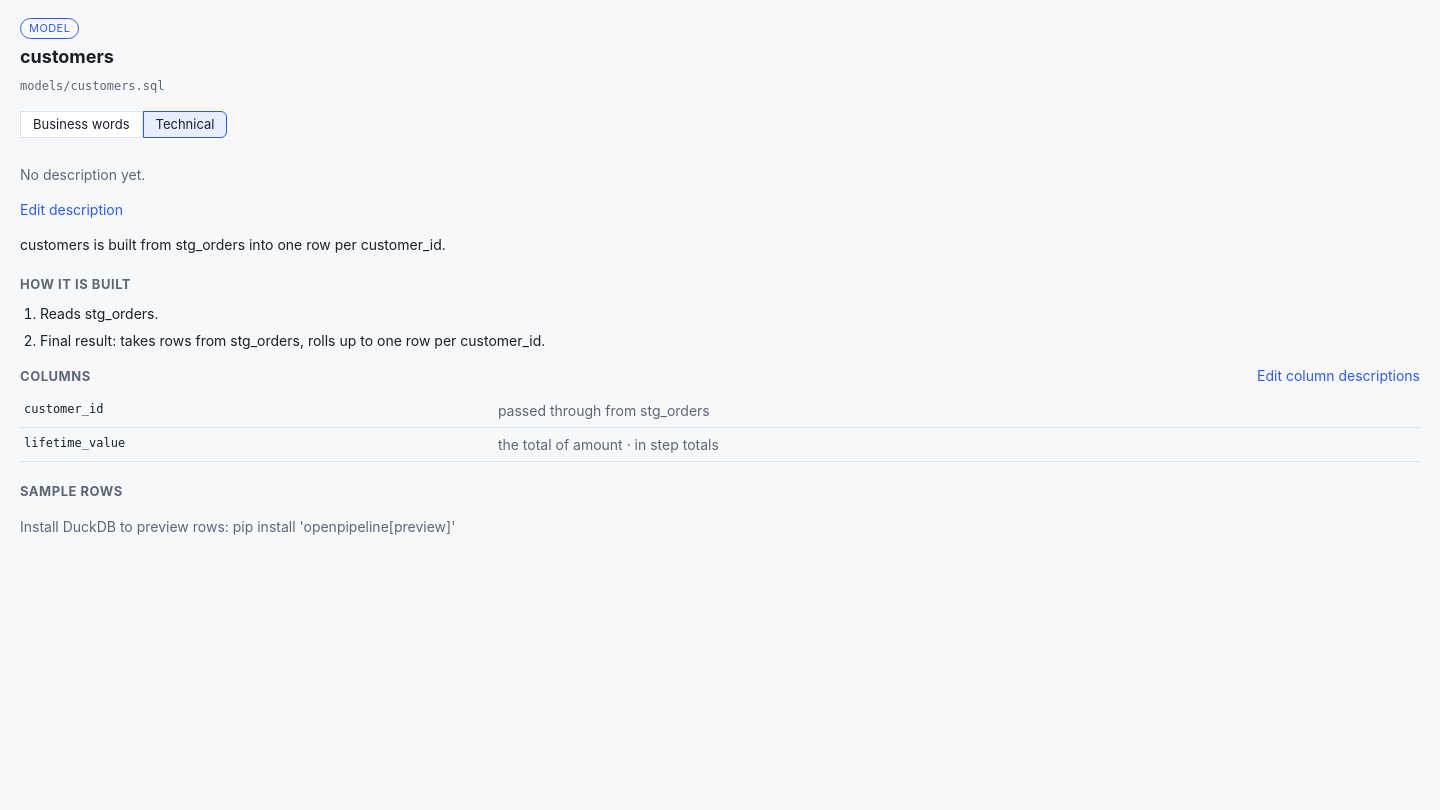
Test: words toggle › still works when storage is blocked
What coordinates should you click on to do the following:
click the button "Business words"
I would click on:
 (81, 124)
Its box is [20,110,142,138].
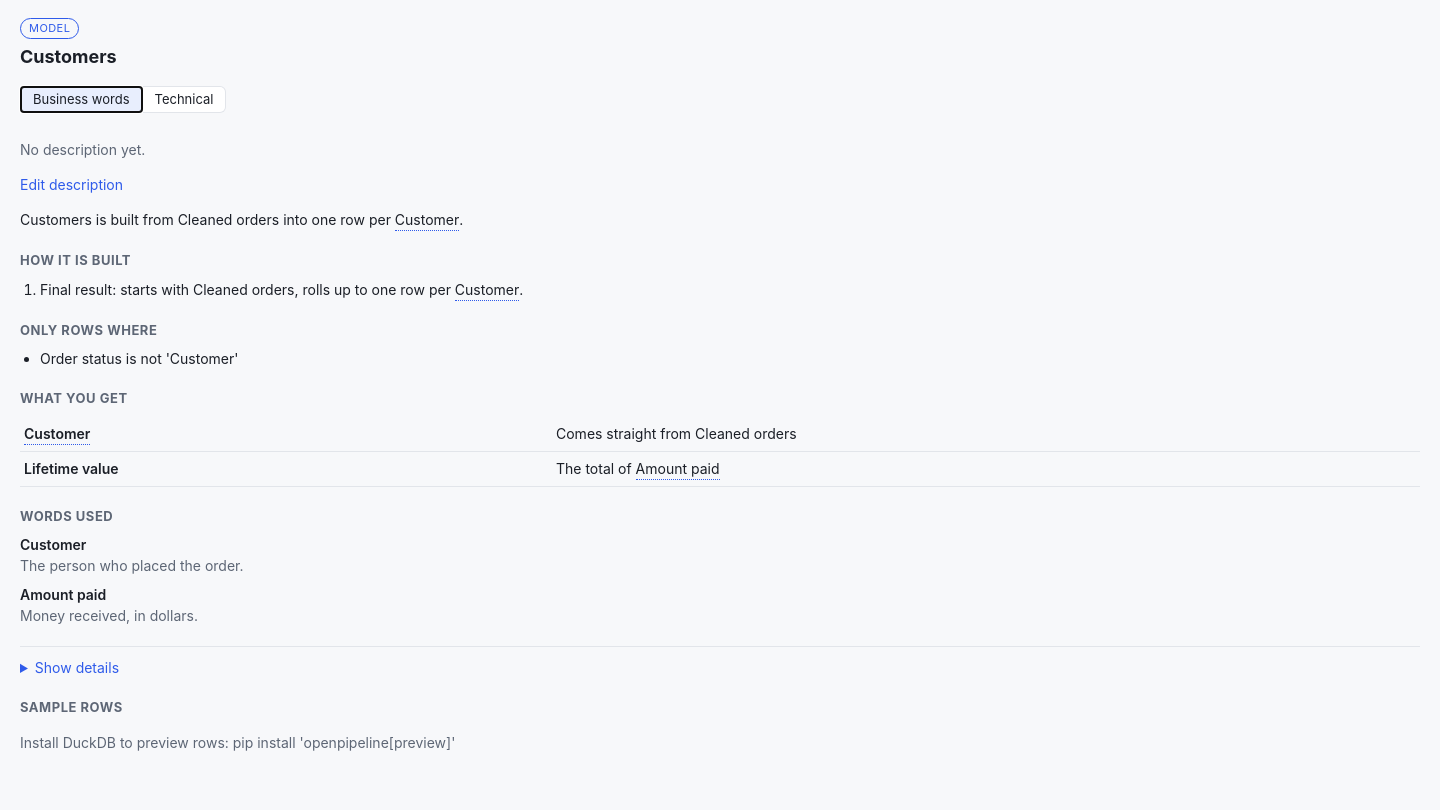
Now the text "Customers is built from Cleaned orders" is shown, box [20,211,395,228]
